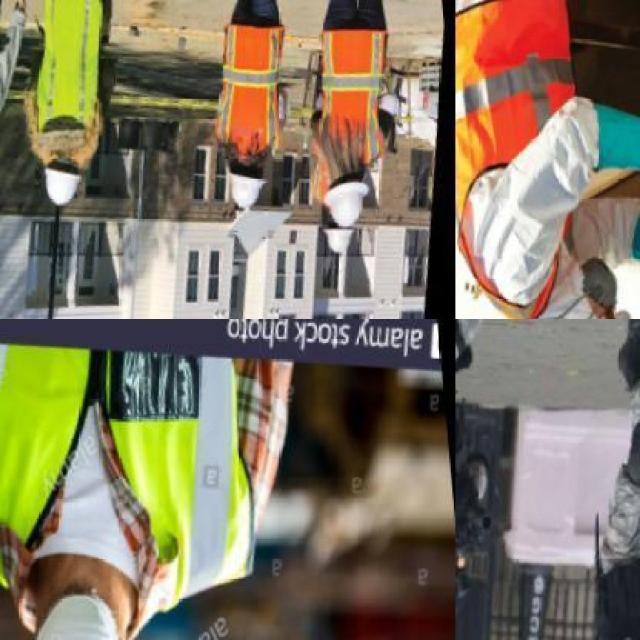helmet: (320, 180, 384, 226), (39, 168, 93, 210), (222, 169, 272, 212)
jacket: (17, 0, 117, 146), (312, 24, 402, 168), (206, 15, 293, 150)
